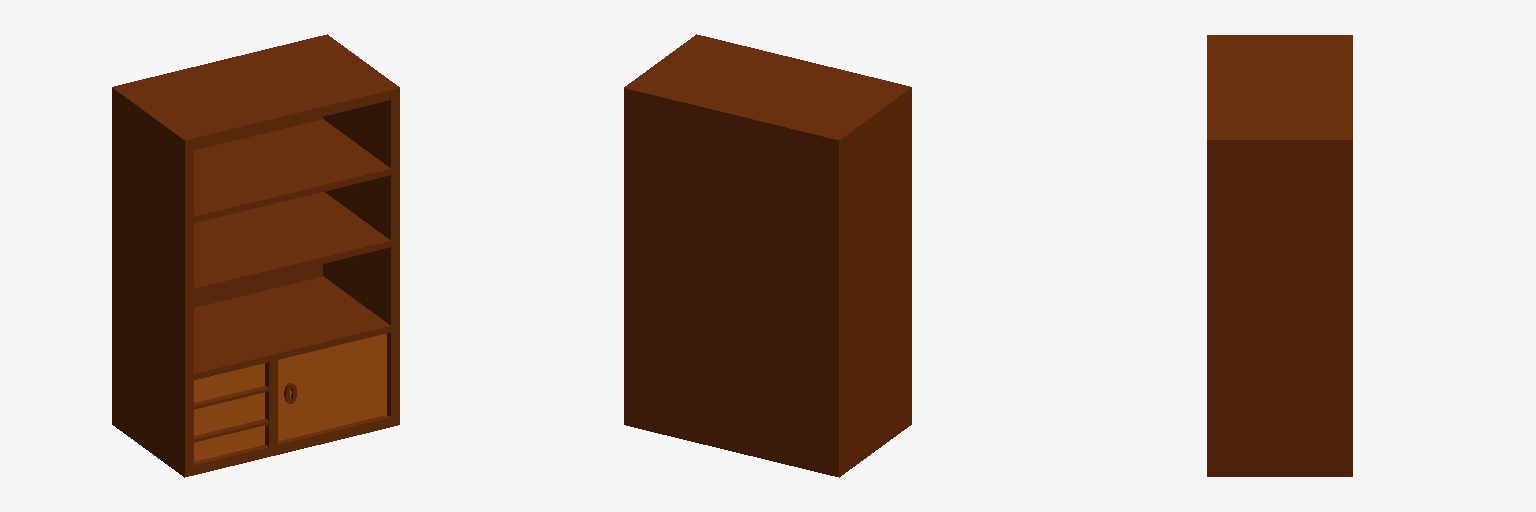
The model's file is bookcase.obj.
3 views of the same model, side by side, from view 1: azimuth 30°, elevation 25°; view 2: azimuth 150°, elevation 25°; view 3: azimuth 270°, elevation 25° (orthographic).
Visible parts, largest first — view 1: tinker; view 2: tinker; view 3: tinker.
Boxes of the visible parts, <box> form: tinker: <box>112,34,399,477</box>; tinker: <box>624,34,911,477</box>; tinker: <box>1207,35,1352,476</box>.
Size of the model in its own units: 69 by 103 by 40.5.